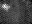person: (2, 3, 9, 10)
